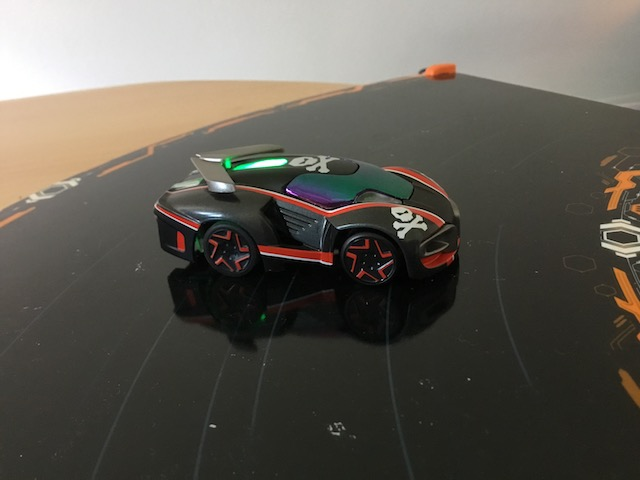car-red: (148, 140, 466, 292)
